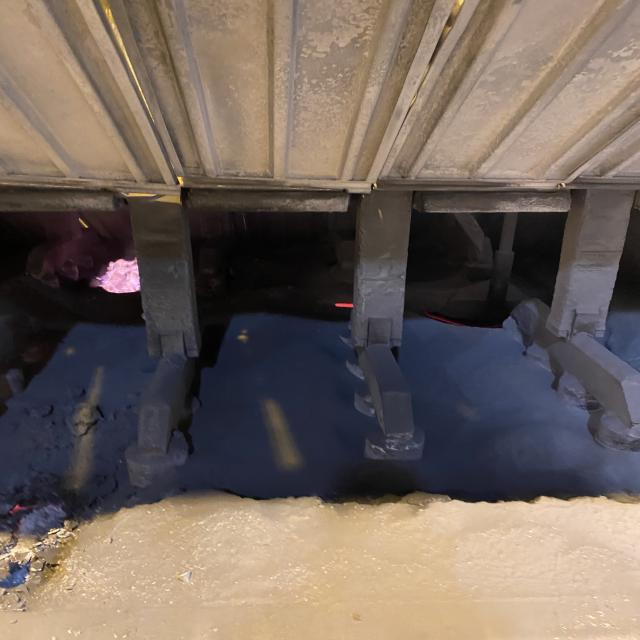Blackspot: (439, 300, 486, 316)
Redspot: (424, 312, 465, 329), (335, 303, 353, 308)
